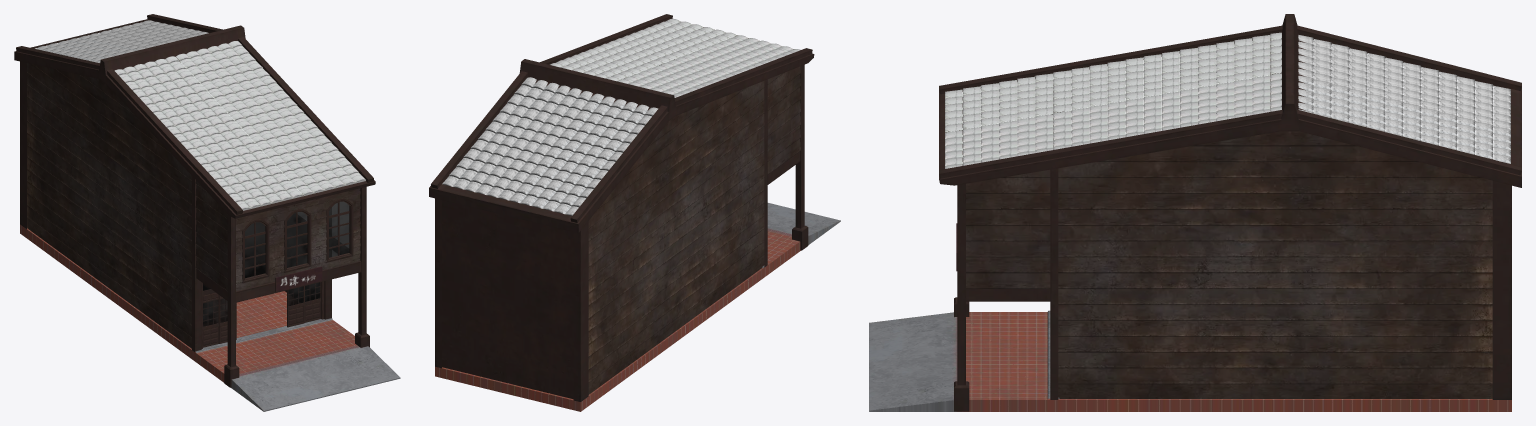
File: qiaonan-yuejin.glb
3 renders of one model, left to right at view 1: azimuth 30°, elevation 25°; view 2: azimuth 150°, elevation 25°; view 3: azimuth 270°, elevation 25°, orthographic. The views are drawn at different scales.
Parts seen in each view (by area): view 1: Yuejin; view 2: Yuejin; view 3: Yuejin.
Part boxes in pixels (<box>): Yuejin: <box>14,14,400,411</box>; Yuejin: <box>429,14,840,411</box>; Yuejin: <box>869,14,1521,411</box>.
Bounding box in the file's own units: 5.89 × 9.42 × 18.05.
3 materials, 3 textured.
